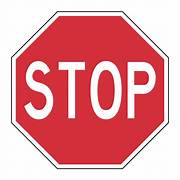stop: (10, 10, 169, 169)
